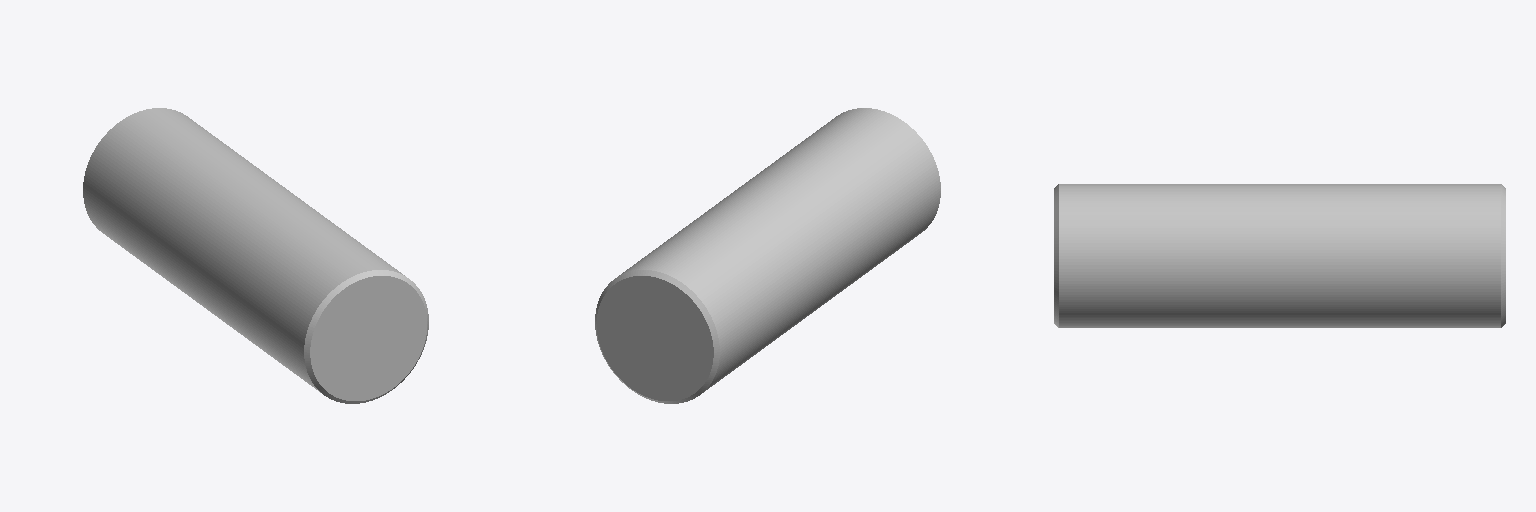
The model's file is industreal_round_peg_16mm.obj.
3 renders of one model, left to right at view 1: azimuth 30°, elevation 25°; view 2: azimuth 150°, elevation 25°; view 3: azimuth 270°, elevation 25°, orthographic.
Size of the model in its own units: 0.016 by 0.016 by 0.05.